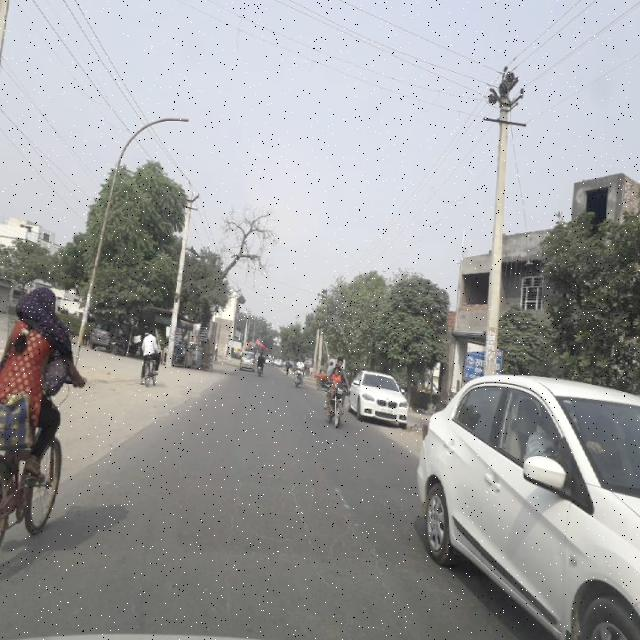D44: (327, 480, 357, 524)
